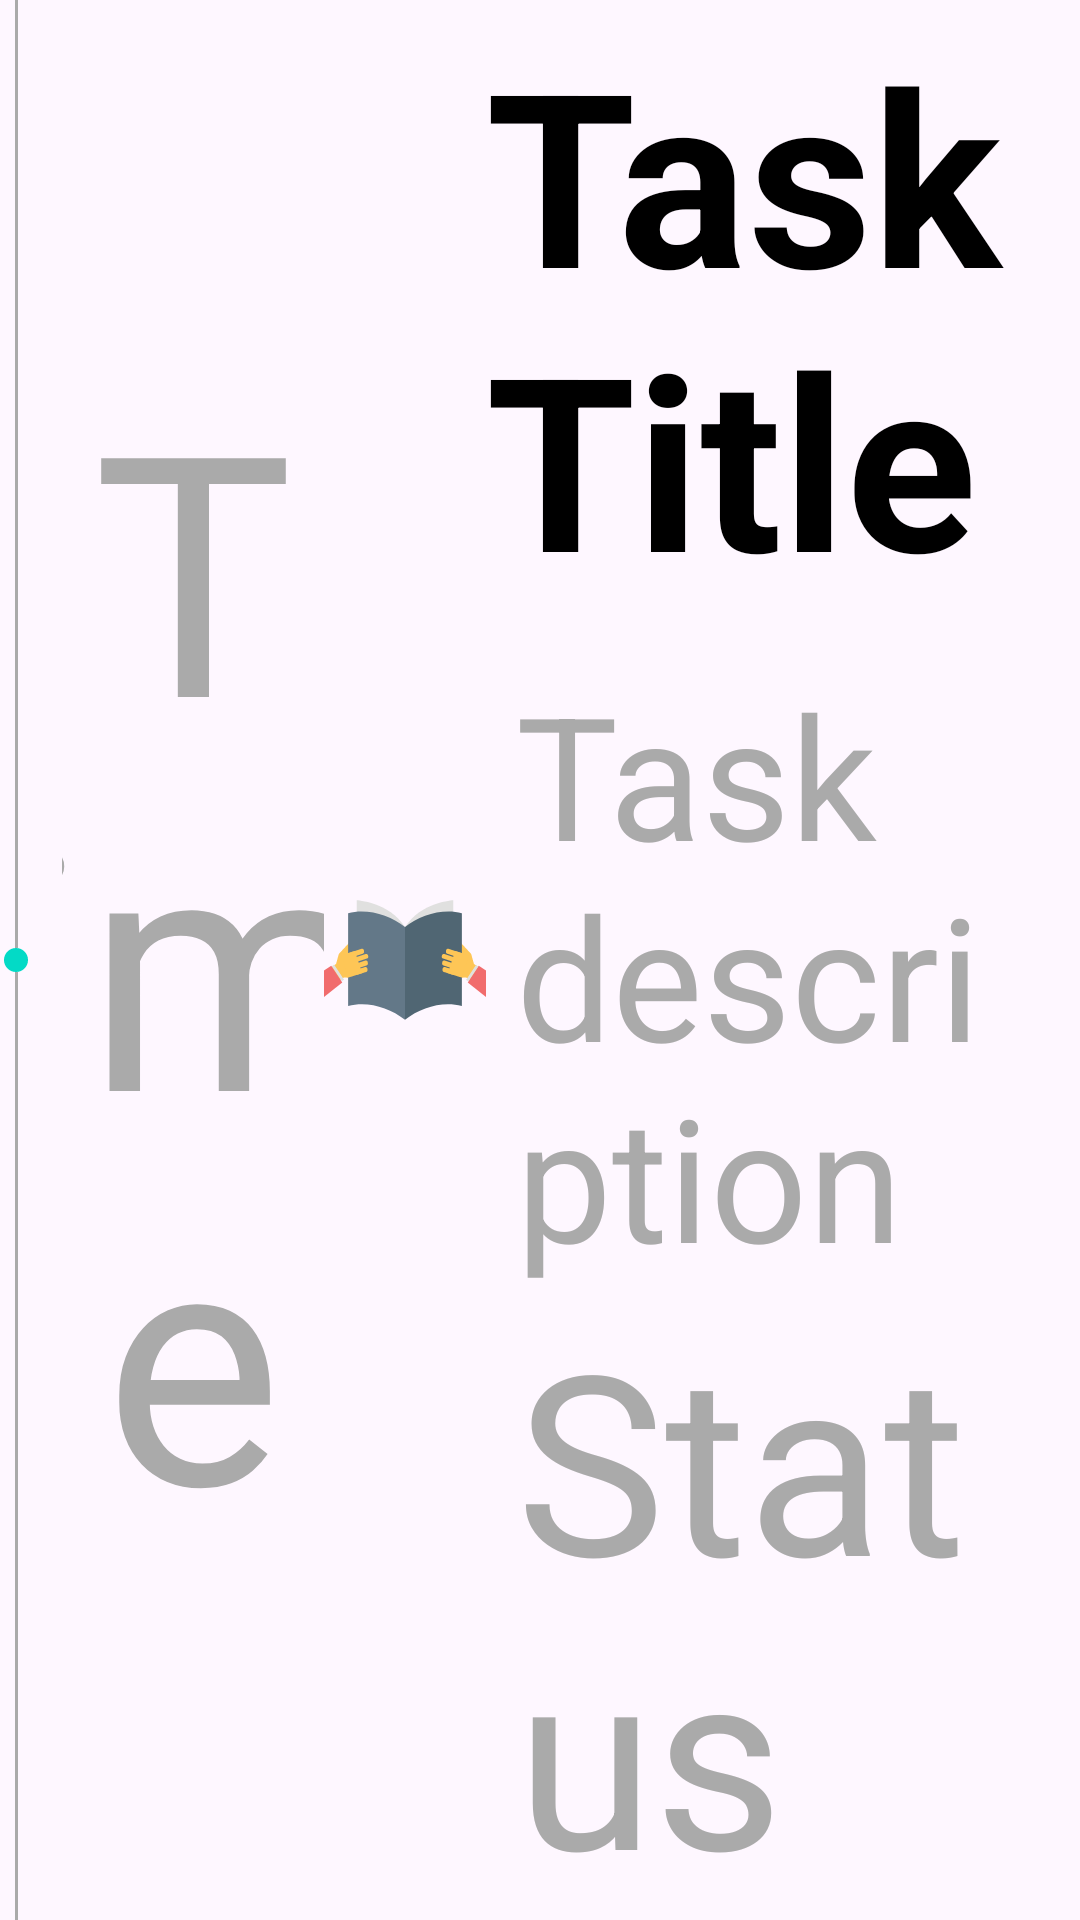

Where to tap for icons on this 1080w x 1920h app screen, as [x,y]:
dot: [16,960]
